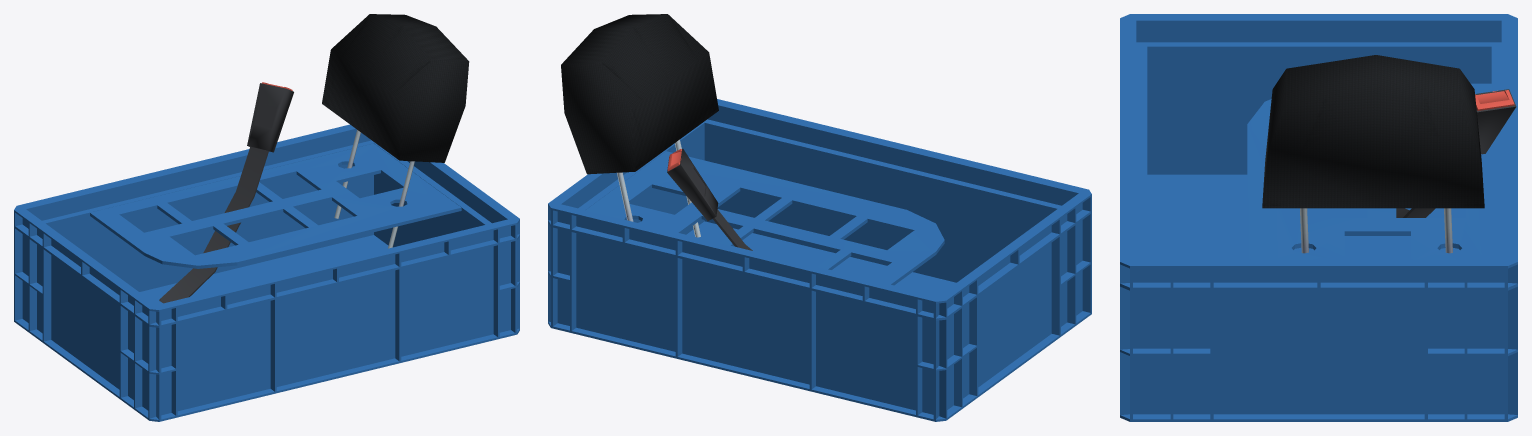
The model's file is yunshu07.FBX.
3 views of the same model, side by side, from view 1: azimuth 30°, elevation 25°; view 2: azimuth 150°, elevation 25°; view 3: azimuth 270°, elevation 25° (orthographic). The views are drawn at different scales.
Parts seen in each view (by area): view 1: YF_Model_yunshu07; view 2: YF_Model_yunshu07; view 3: YF_Model_yunshu07.
Boxes of the visible parts, box(x1,y1,x2,y2) form: YF_Model_yunshu07: box(14, 14, 519, 421); YF_Model_yunshu07: box(548, 14, 1091, 421); YF_Model_yunshu07: box(1120, 14, 1517, 421).
Size of the model in its own units: 60.75 by 38.41 by 40.
